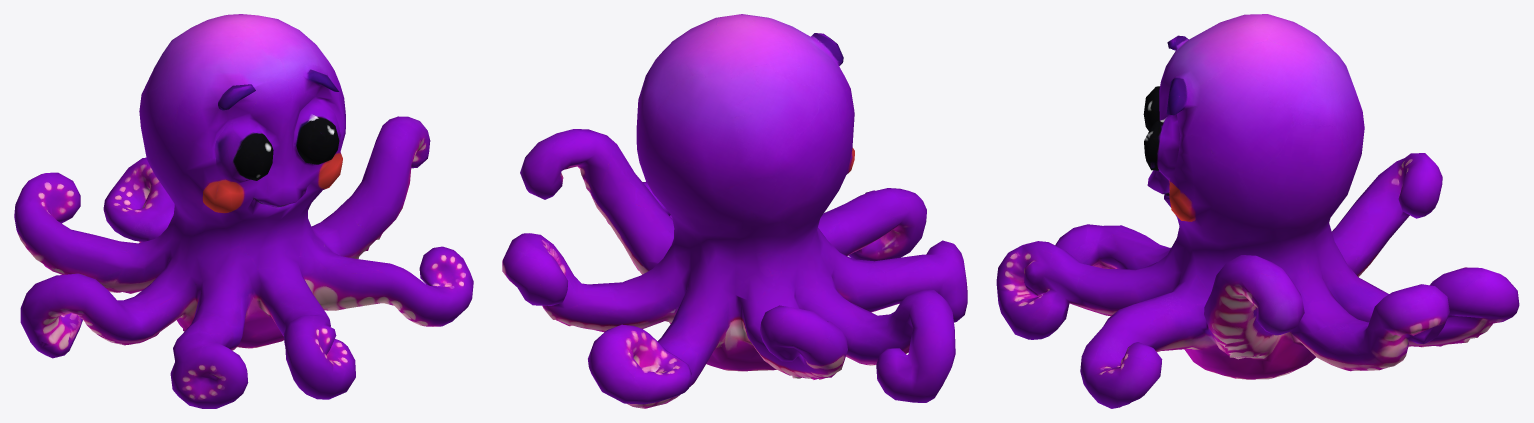
The model's file is fish_tentacle.glb.
3 views of the same model, side by side, from view 1: azimuth 30°, elevation 25°; view 2: azimuth 150°, elevation 25°; view 3: azimuth 270°, elevation 25° (orthographic). The views are drawn at different scales.
Size of the model in its own units: 1.84 by 1.35 by 1.91.
Materials: 1 (1 with a texture image).
